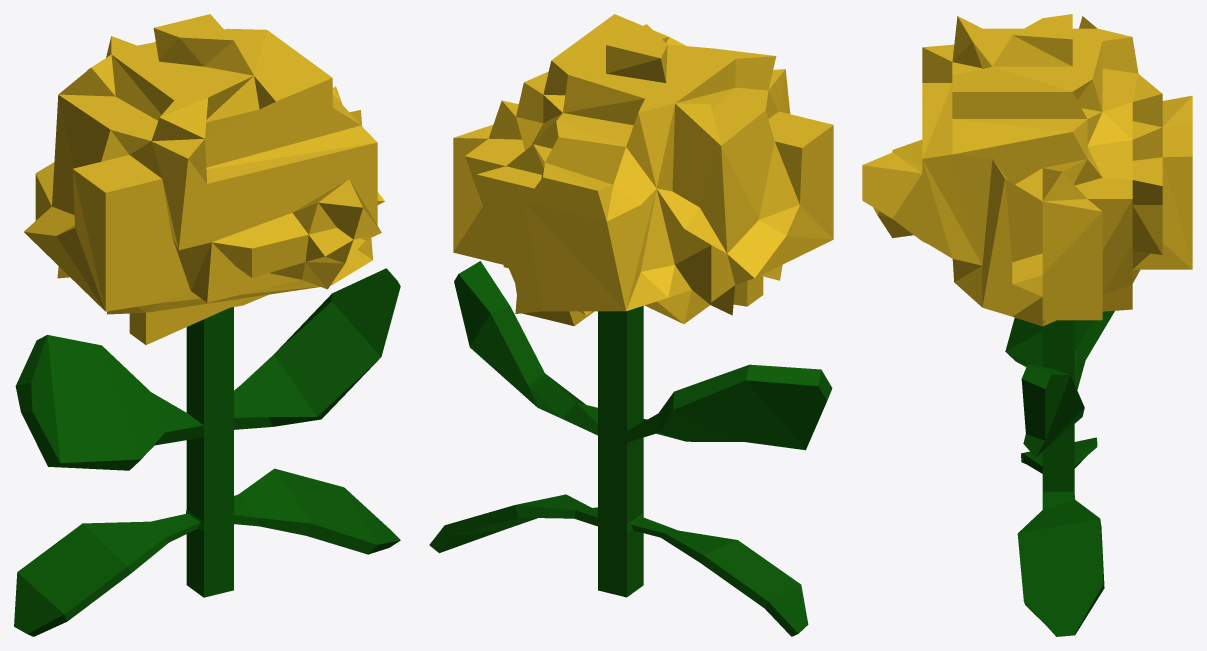
File: Prąd3.fbx
3 renders of one model, left to right at view 1: azimuth 30°, elevation 25°; view 2: azimuth 150°, elevation 25°; view 3: azimuth 270°, elevation 25°, orthographic. The views are drawn at different scales.
Visible parts, largest first — view 1: Icosphere.001, Cube.004; view 2: Icosphere.001, Cube.004; view 3: Icosphere.001, Cube.004.
Part boxes in pixels (left/top/right/bottom): Icosphere.001: left=24, top=14, right=384, bottom=344; Cube.004: left=14, top=268, right=400, bottom=636; Icosphere.001: left=453, top=14, right=833, bottom=326; Cube.004: left=429, top=261, right=832, bottom=636; Icosphere.001: left=862, top=14, right=1192, bottom=326; Cube.004: left=1005, top=311, right=1114, bottom=636.
Size of the model in its own units: 0.5978 by 0.8304 by 0.4767.
